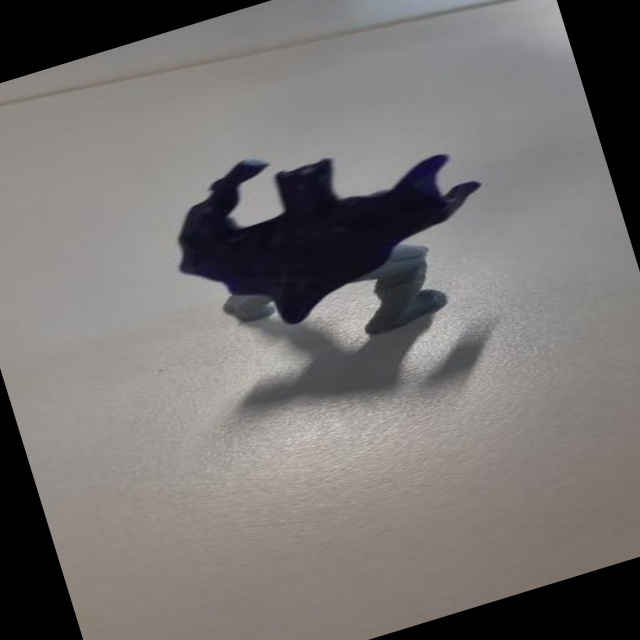Batman: (135, 91, 527, 390)
